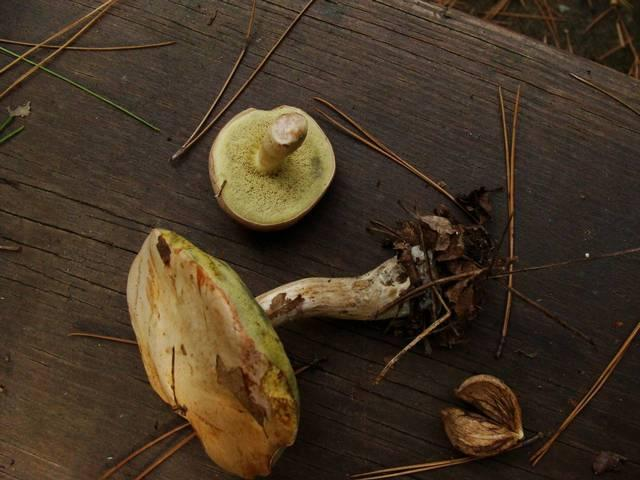edible_mushroom: (124, 193, 485, 478), (207, 103, 336, 231)
